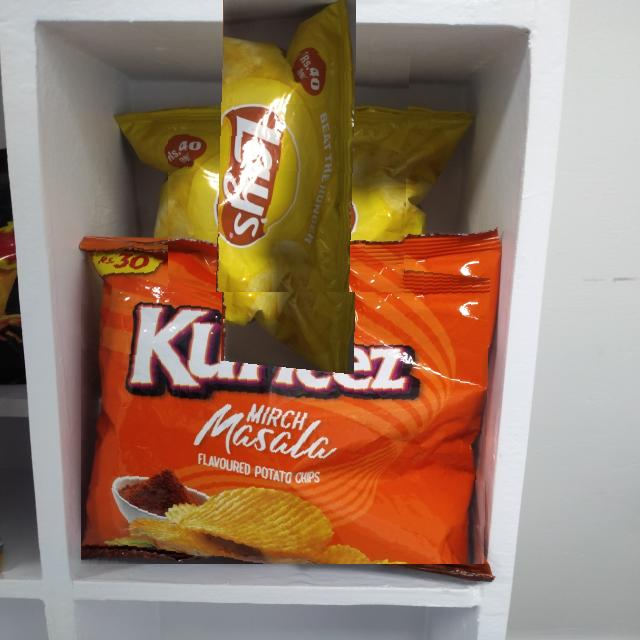Plastic: (81, 236, 490, 564), (168, 50, 410, 292)
